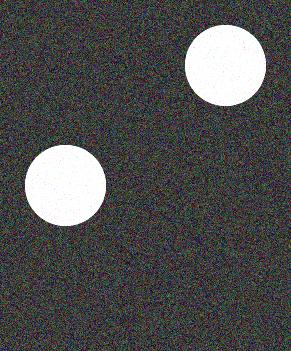I: (17, 16, 274, 333)
